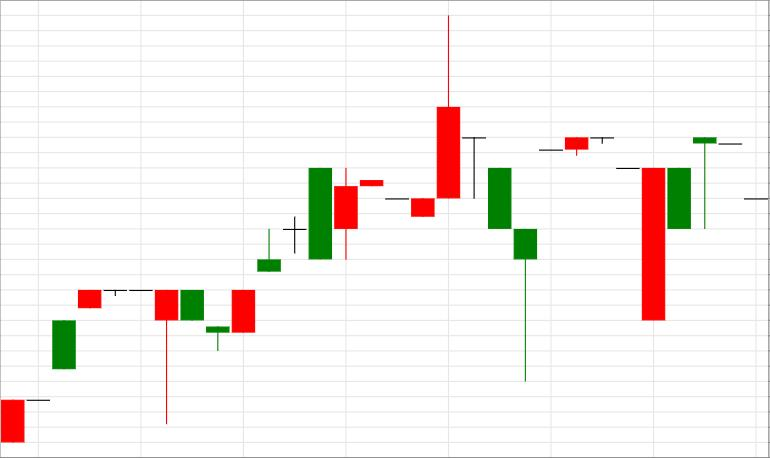hammer_rise: (437, 15, 537, 381), (0, 288, 178, 443)
